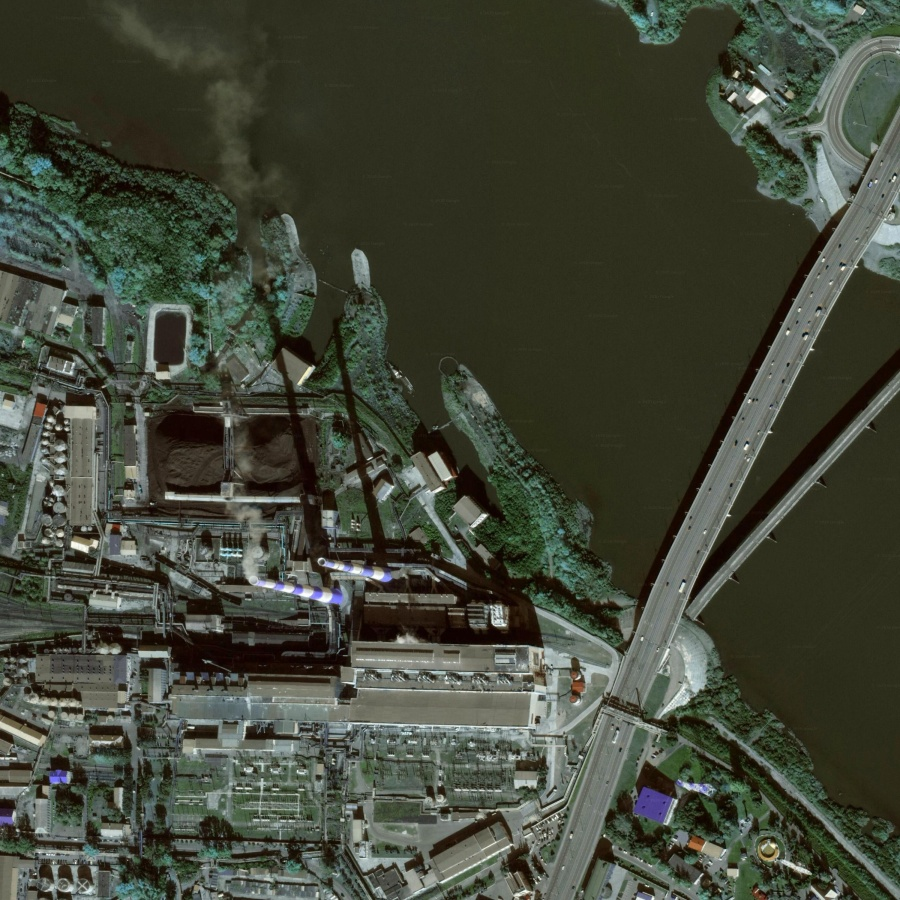PowerPlant: (127, 378, 531, 722)
